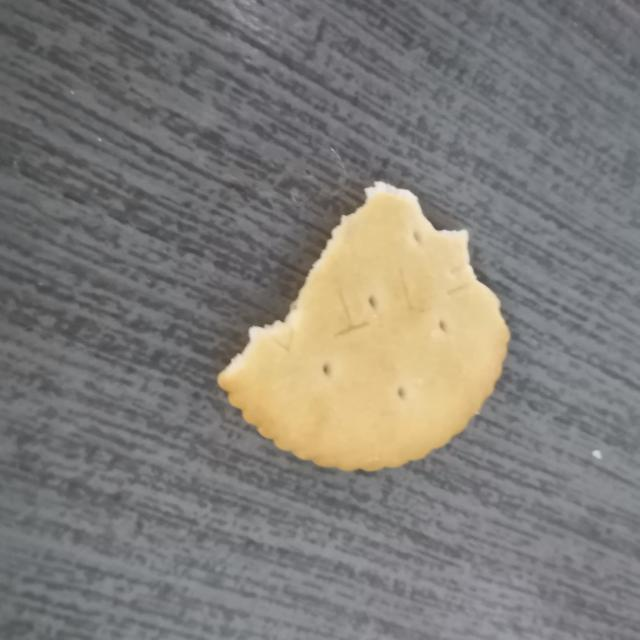Broken: (216, 179, 511, 473)
